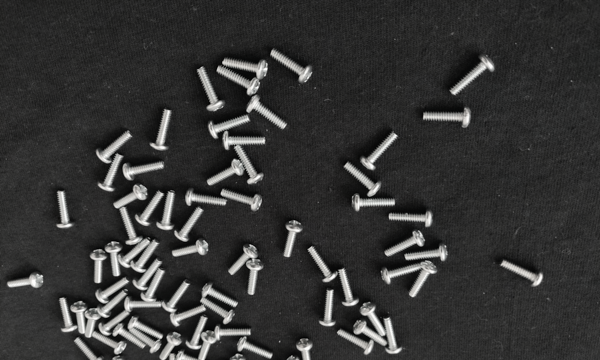shortscrew: (450, 54, 497, 96), (247, 92, 288, 130), (270, 48, 313, 84), (361, 131, 399, 171), (216, 64, 261, 95), (344, 162, 383, 197), (197, 66, 226, 112), (233, 144, 264, 185), (307, 244, 338, 284), (501, 261, 545, 288), (97, 131, 132, 164), (385, 229, 426, 257), (424, 106, 473, 129), (174, 206, 205, 242), (135, 190, 165, 227), (410, 260, 438, 298), (207, 159, 245, 187), (201, 281, 239, 309), (208, 114, 250, 139), (223, 57, 268, 80), (381, 262, 424, 286), (336, 329, 375, 355), (353, 320, 389, 348), (229, 243, 259, 276), (162, 280, 192, 313), (118, 238, 151, 268), (95, 277, 130, 305), (98, 153, 123, 192), (360, 301, 387, 337), (200, 298, 236, 325), (222, 187, 262, 211), (131, 240, 158, 274), (150, 109, 171, 152), (389, 208, 434, 228), (98, 289, 128, 319), (119, 208, 143, 245), (352, 193, 396, 213), (337, 266, 359, 306), (114, 184, 149, 209), (129, 315, 164, 340), (132, 260, 161, 290), (113, 323, 146, 349), (238, 335, 273, 359), (99, 310, 131, 336), (405, 243, 448, 262), (223, 132, 266, 151), (170, 305, 207, 327), (132, 327, 162, 354), (156, 190, 176, 230), (142, 267, 164, 303), (92, 332, 126, 355), (55, 189, 75, 228), (186, 315, 208, 350), (123, 162, 163, 181), (186, 188, 227, 206), (284, 220, 303, 258), (318, 289, 337, 327), (384, 317, 403, 355), (173, 239, 209, 258), (59, 297, 78, 333), (75, 336, 103, 360), (246, 258, 264, 295), (124, 296, 162, 313), (89, 249, 107, 284), (160, 333, 183, 360), (214, 325, 252, 341), (105, 242, 122, 276), (8, 272, 43, 288), (84, 308, 101, 339), (71, 301, 86, 334), (199, 331, 216, 360), (296, 338, 314, 360), (285, 353, 315, 360), (109, 355, 134, 360), (165, 353, 180, 360), (230, 354, 245, 360), (212, 359, 234, 360)
